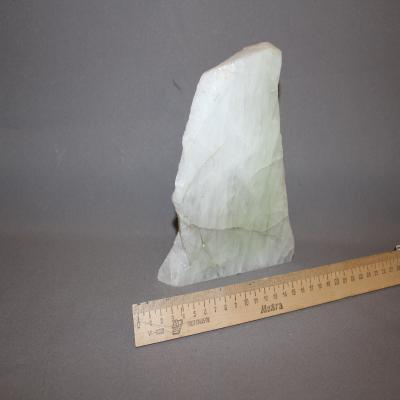mineralogy: (156, 42, 295, 289)
